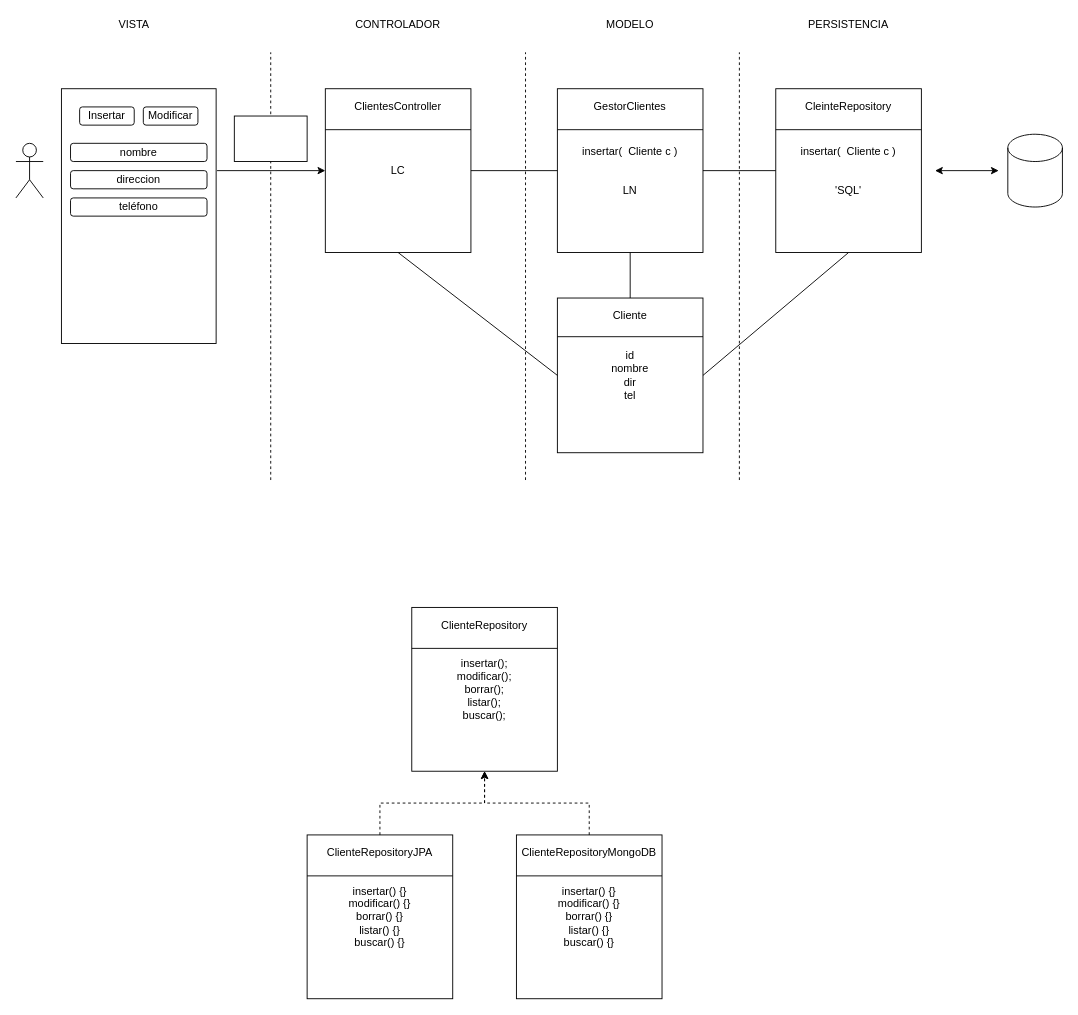
Image size: 1078x1015. Some labels were removed from this diagram. The shapes that lost their labels are listed below. From the top down, each one's centre as x and y in pixels, then its label:
the point at 270,138: HTTP
the point at 29,170: Actor
